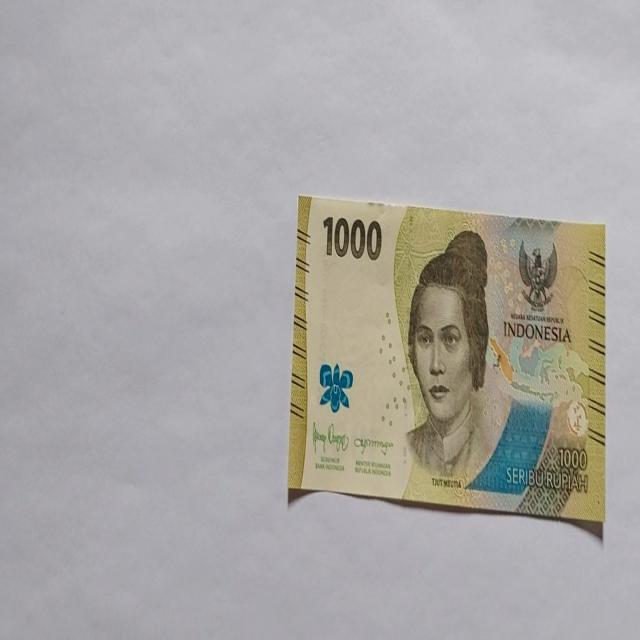seribu rupiah kertas: (288, 192, 606, 524)
